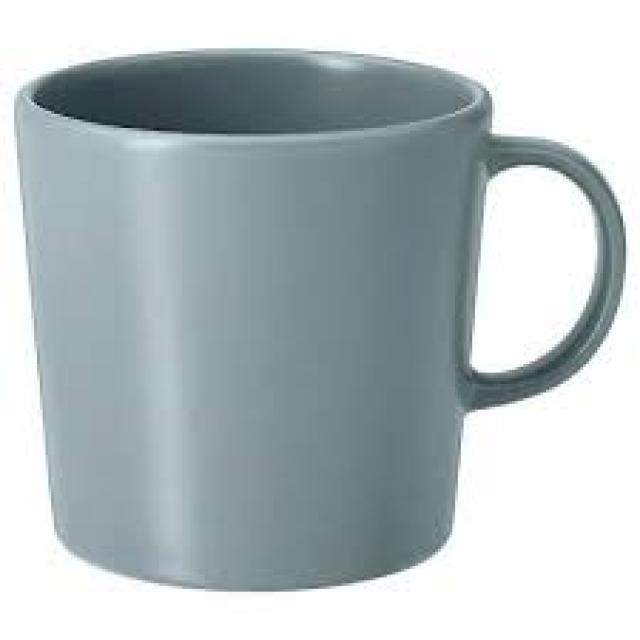taza: (14, 47, 628, 594)
